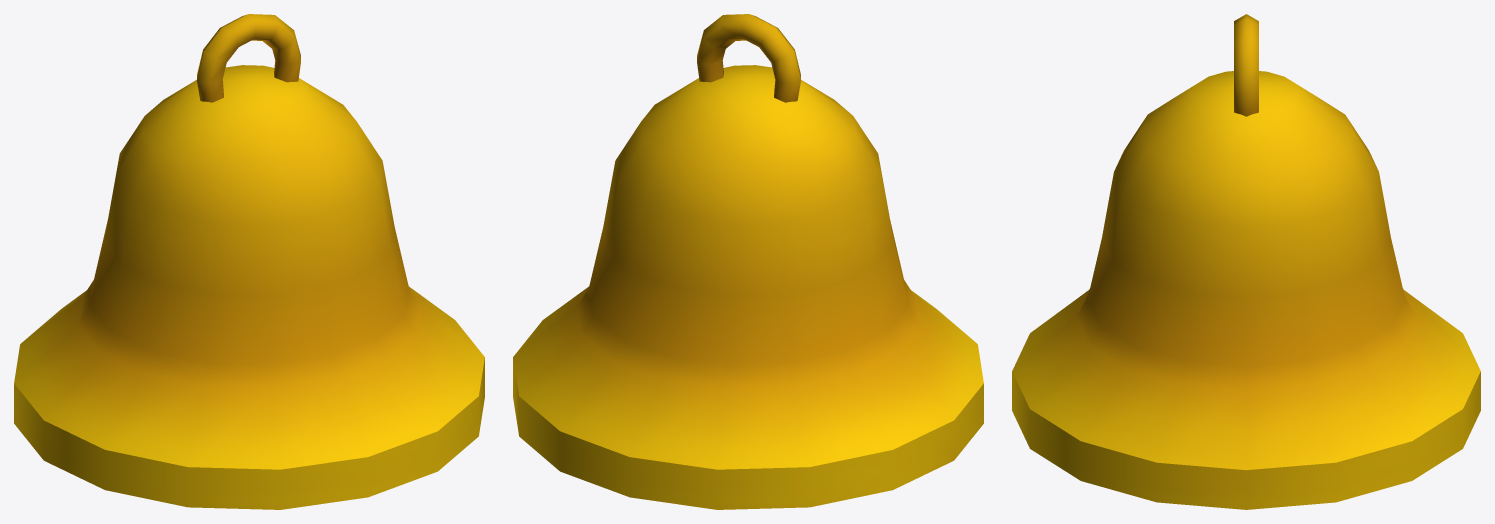
The model's file is Bell.FBX.
The picture shows the model from 3 angles, left to right: view 1: azimuth 30°, elevation 25°; view 2: azimuth 150°, elevation 25°; view 3: azimuth 270°, elevation 25°; orthographic projection.
Visible parts, largest first — view 1: Bell; view 2: Bell; view 3: Bell.
Part boxes in pixels (left/top/right/bottom): Bell: left=14, top=14, right=484, bottom=509; Bell: left=513, top=14, right=983, bottom=509; Bell: left=1012, top=14, right=1480, bottom=509.
Size of the model in its own units: 291 by 268 by 291.
